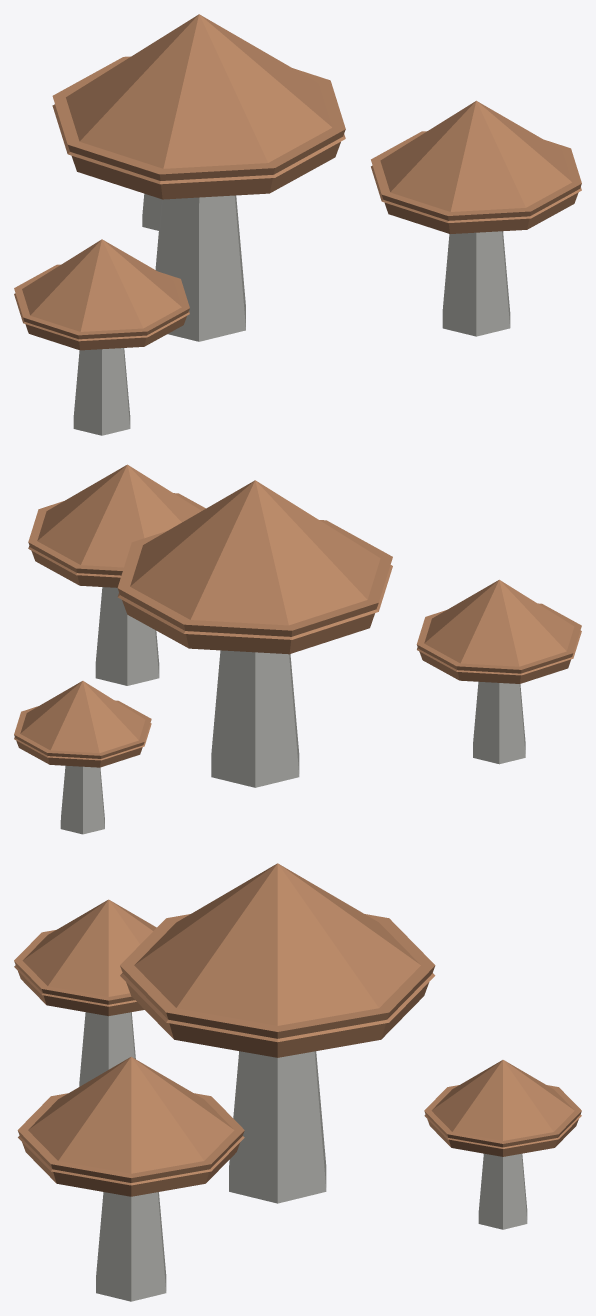
File: wipe-day-survival-island-mushroom-cluster-b7bf99fd.glb
3 renders of one model, top to bottom at view 1: azimuth 30°, elevation 25°; view 2: azimuth 150°, elevation 25°; view 3: azimuth 270°, elevation 25°, orthographic. The views are drawn at different scales.
Visible parts, largest first — view 1: mushroom-cluster; view 2: mushroom-cluster; view 3: mushroom-cluster.
Boxes of the visible parts, box(x1,y1,x2,y2) form: mushroom-cluster: box(14, 14, 581, 435); mushroom-cluster: box(14, 464, 581, 834); mushroom-cluster: box(14, 863, 581, 1301).
Bounding box in the file's own units: 0.5948 × 0.31 × 0.504.
